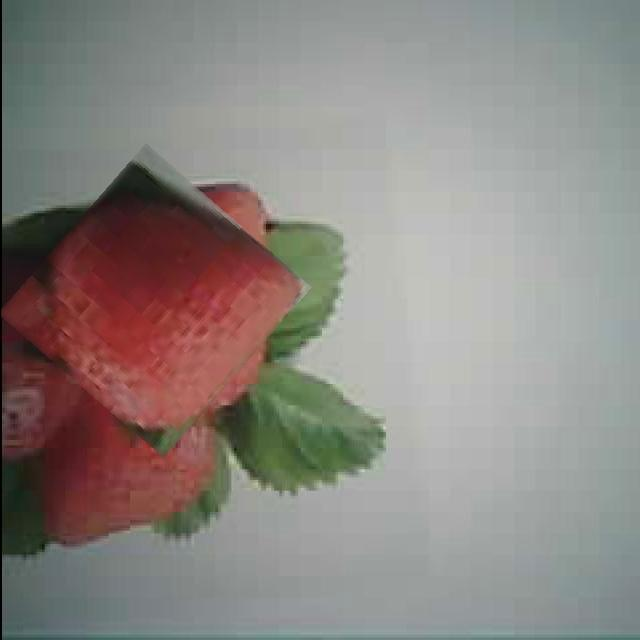strawberry: (21, 166, 287, 436)
